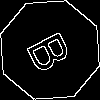B: (25, 25, 81, 76)
